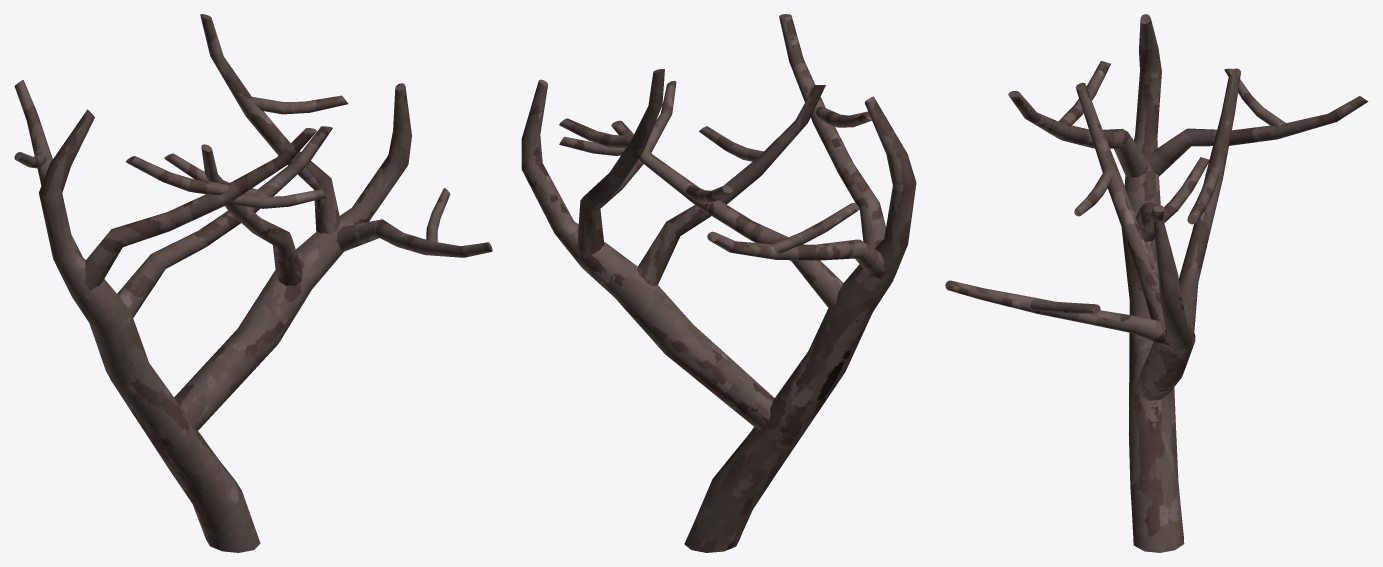
The model's file is deadtree_3.glb.
3 views of the same model, side by side, from view 1: azimuth 30°, elevation 25°; view 2: azimuth 150°, elevation 25°; view 3: azimuth 270°, elevation 25° (orthographic). The views are drawn at different scales.
Parts seen in each view (by area): view 1: DeadTree_3; view 2: DeadTree_3; view 3: DeadTree_3.
Boxes of the visible parts, x1,y1,x2,y2 form: DeadTree_3: (14,14,492,552); DeadTree_3: (521,14,916,552); DeadTree_3: (945,14,1368,552).
Size of the model in its own units: 4.5 by 5.62 by 4.52.
Materials: 1 (1 with a texture image).
